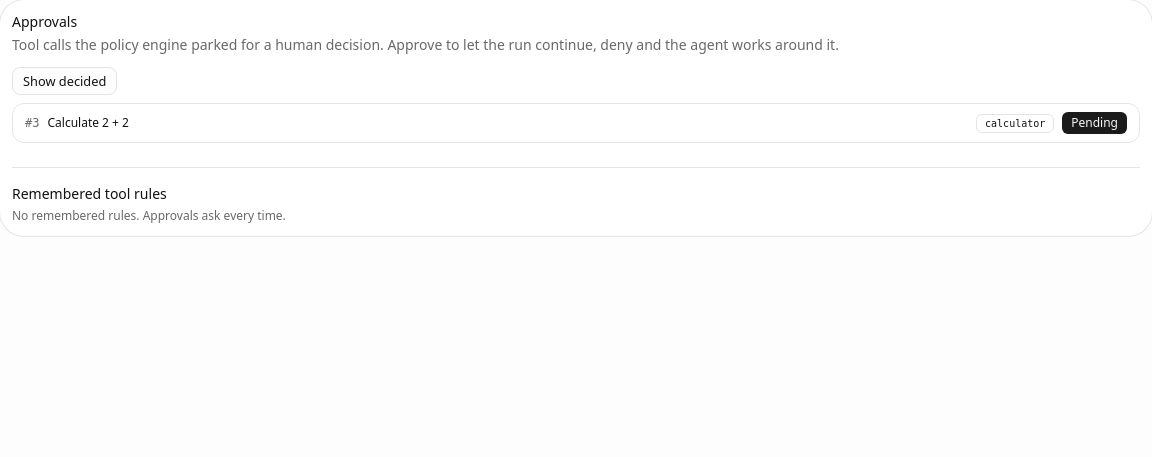
Test: expands a request and posts the decision
Later steps or results of the test are not shown.
Click the button "#3 Calculate 2 + 2 calculator Pending". click: (88, 123)
box: [13,104,1139,142]
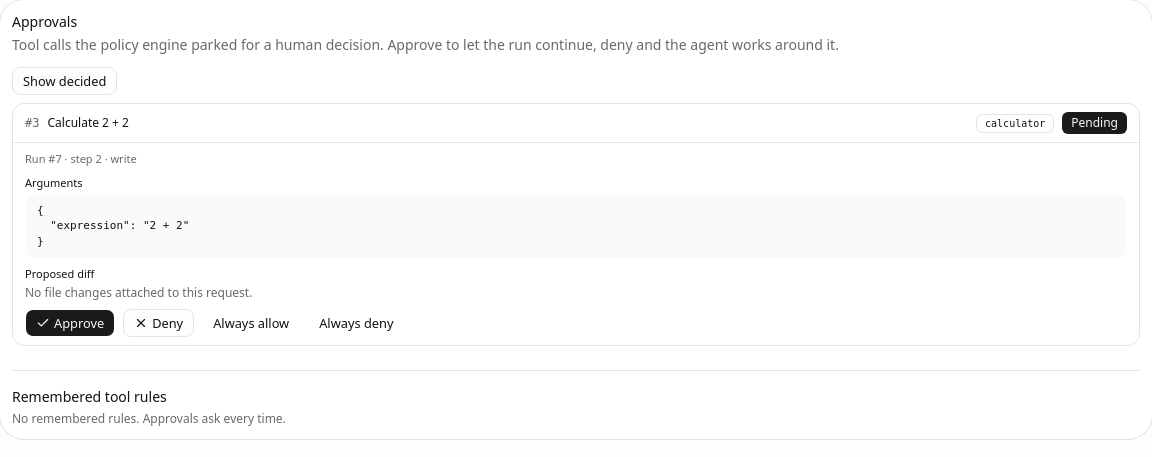
expect the text "2 + 2" is shown: met, box [48,114,129,131]
expect the text "Run #7" is shown: met, box [25,151,137,166]
